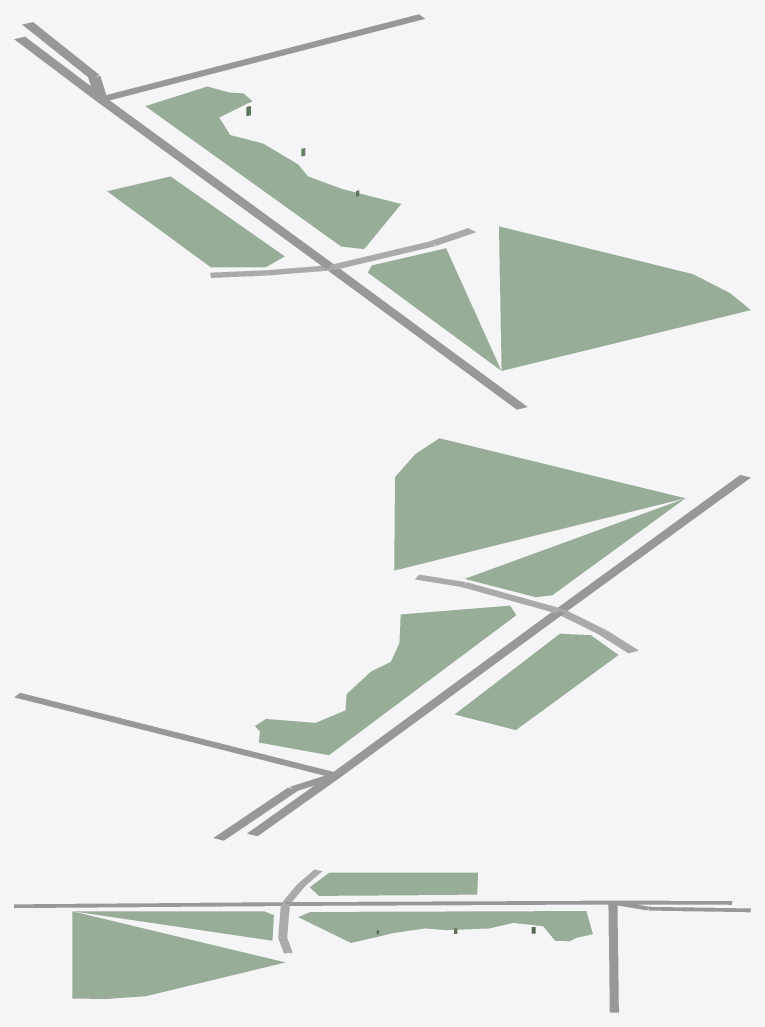
The picture shows the model from 3 angles, top to bottom: view 1: azimuth 30°, elevation 25°; view 2: azimuth 150°, elevation 25°; view 3: azimuth 270°, elevation 25°; orthographic projection. The views are drawn at different scales.
Bounding box in the file's own units: 268 × 8.94 × 567.
